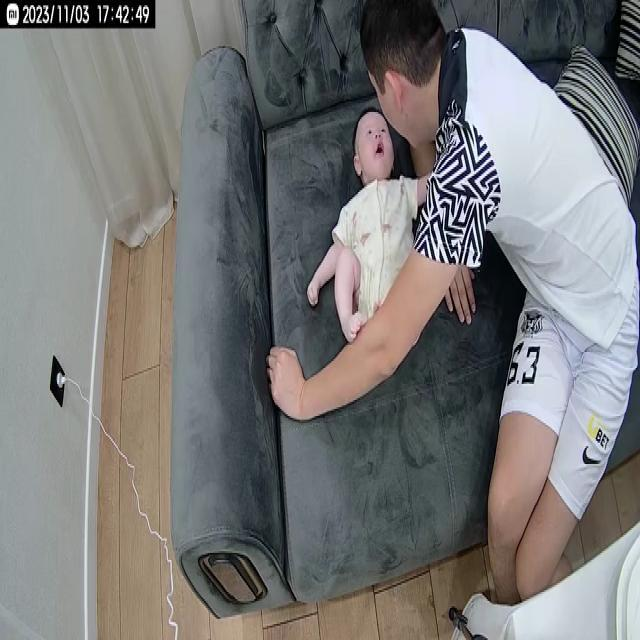baby: (303, 106, 436, 350)
